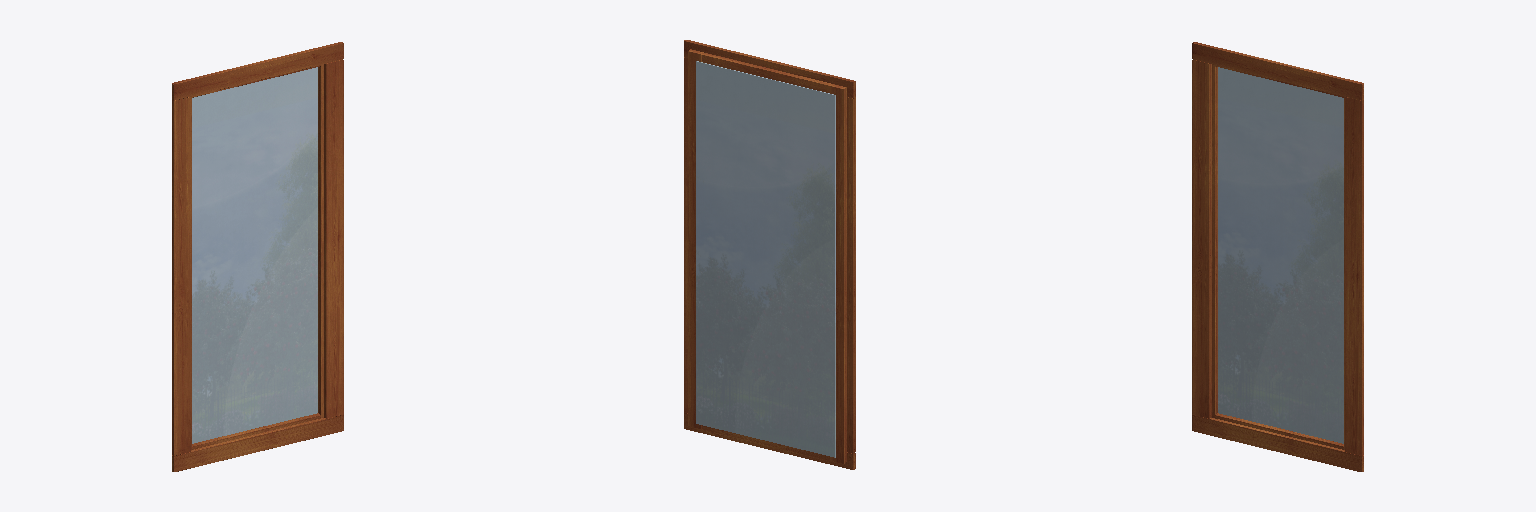
3 views of the same model, side by side, from view 1: azimuth 30°, elevation 25°; view 2: azimuth 150°, elevation 25°; view 3: azimuth 330°, elevation 25° (orthographic).
Parts seen in each view (by area): view 1: glass, trim_right, trim_left, trim_top, trim_bottom, window_right, window_bottom; view 2: glass, window_left, trim_left, window_right, trim_top, trim_right, window_top, trim_bottom, window_bottom; view 3: glass, trim_left, trim_right, trim_top, trim_bottom, window_left, window_bottom.
Boxes of the visible parts, x1,y1,x2,y2 form: glass: [192, 67, 317, 443]; trim_right: [324, 60, 343, 418]; trim_left: [172, 97, 190, 455]; trim_top: [172, 42, 343, 100]; trim_bottom: [172, 415, 343, 471]; window_right: [318, 64, 323, 417]; window_bottom: [192, 413, 320, 449]; glass: [696, 61, 835, 457]; window_left: [830, 84, 846, 463]; trim_left: [847, 97, 855, 453]; window_right: [688, 49, 703, 428]; trim_top: [684, 40, 855, 98]; trim_right: [684, 57, 687, 412]; window_top: [702, 53, 831, 92]; trim_bottom: [684, 413, 855, 469]; window_bottom: [702, 425, 829, 460]; glass: [1218, 67, 1343, 443]; trim_left: [1192, 60, 1211, 418]; trim_right: [1345, 97, 1363, 455]; trim_top: [1192, 42, 1363, 100]; trim_bottom: [1192, 415, 1363, 471]; window_left: [1212, 64, 1217, 417]; window_bottom: [1215, 413, 1343, 449].
Bounding box in the file's own units: 36 × 78.61 × 1.92.
5 materials, 5 textured.